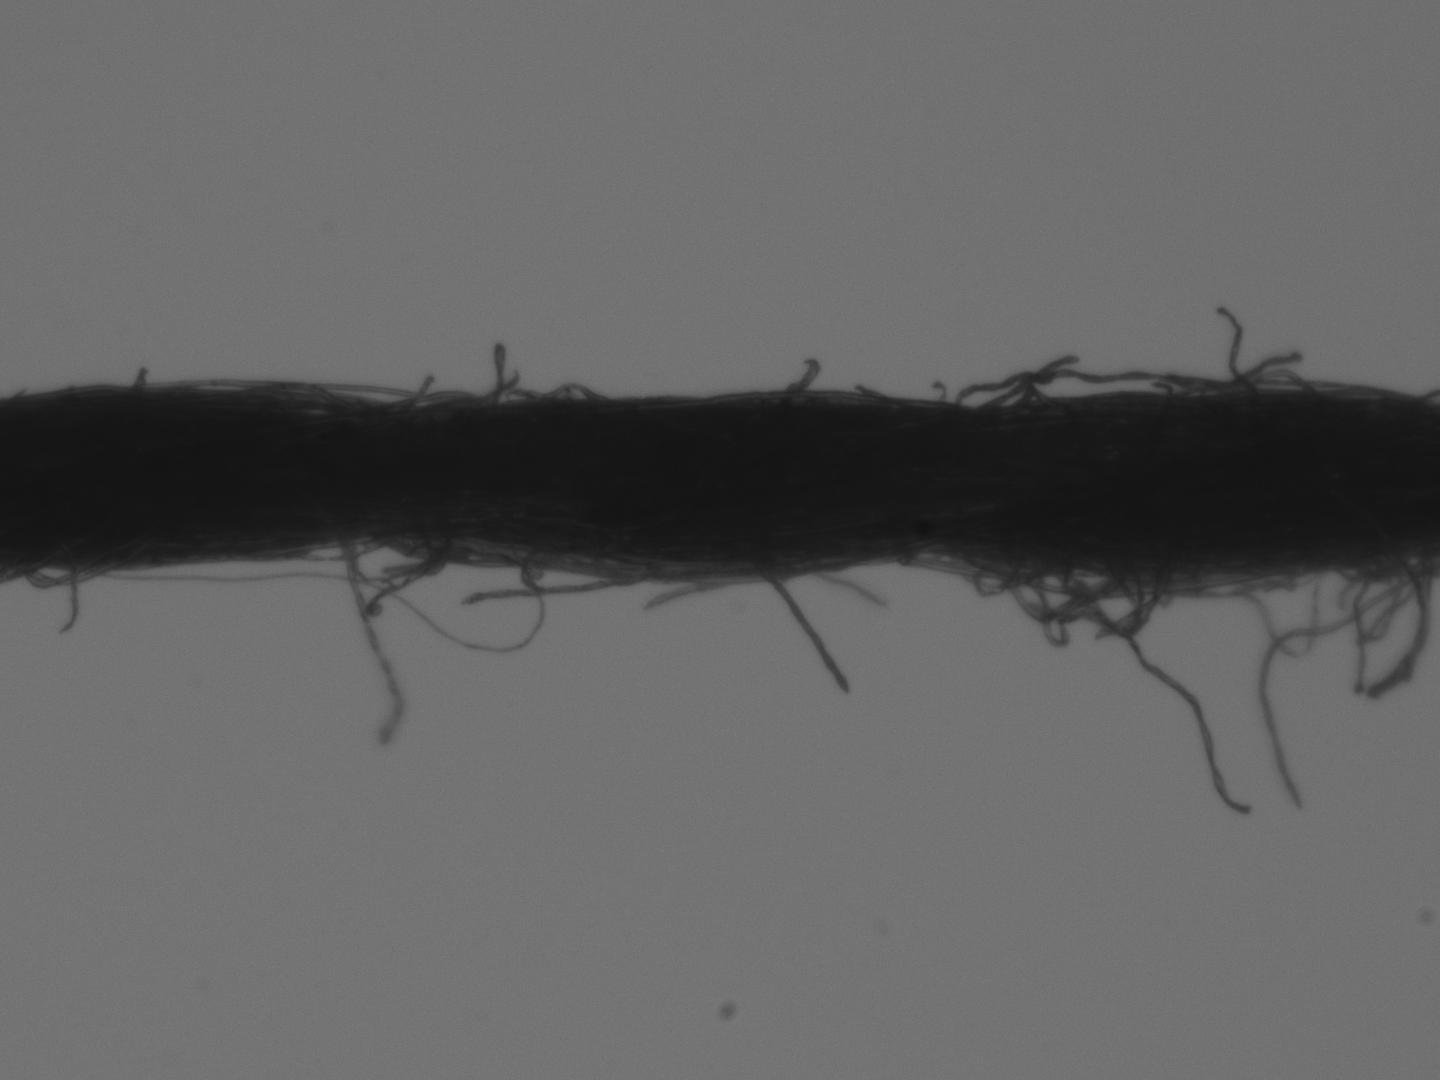loop_fiber: (1031, 558, 1170, 639), (1009, 557, 1120, 624), (954, 549, 1057, 599), (969, 373, 1077, 416), (1181, 371, 1319, 399), (22, 559, 116, 590), (530, 380, 612, 404)
protruding_fiber: (338, 541, 408, 752), (753, 567, 854, 695), (49, 564, 82, 642), (780, 357, 821, 397)
